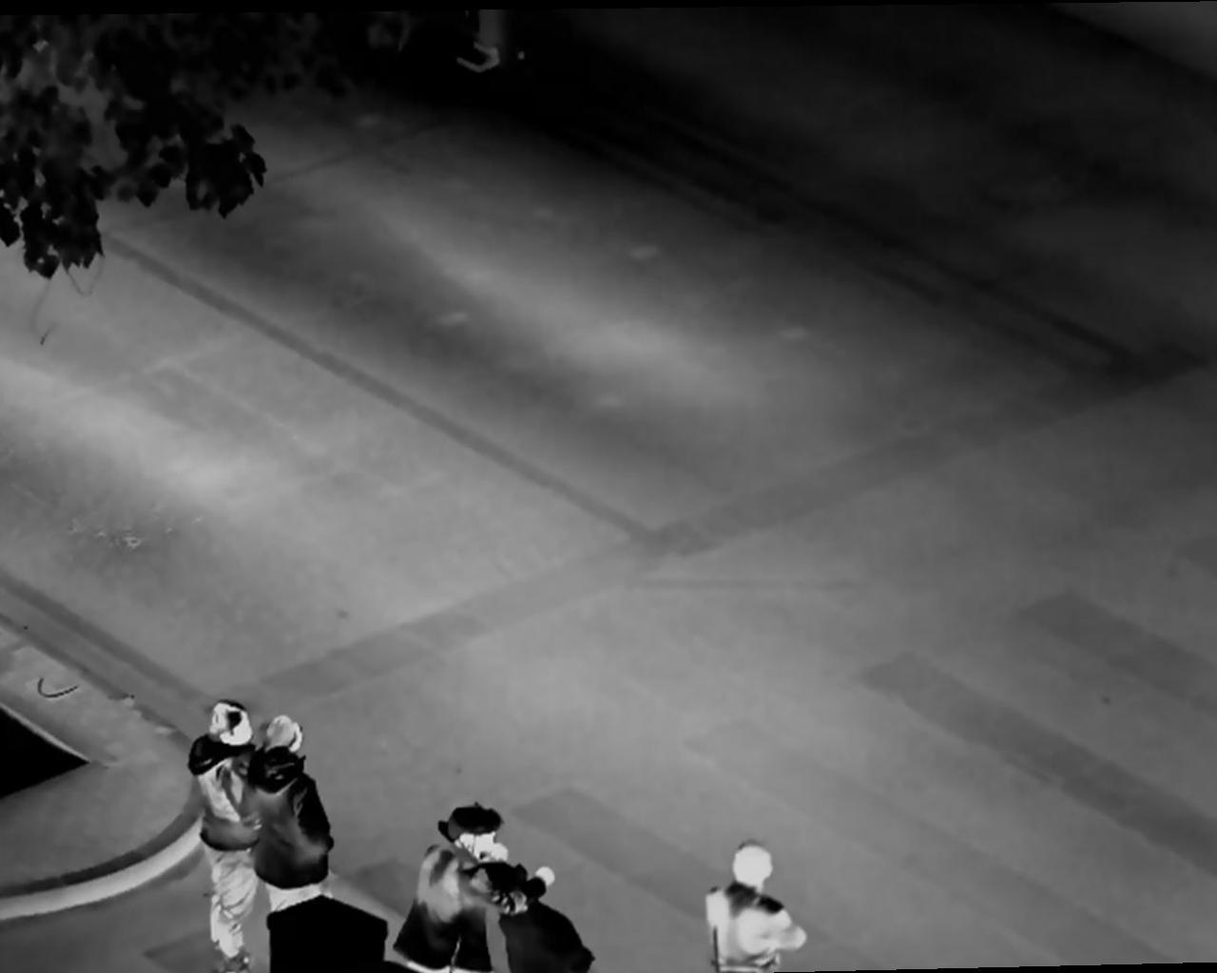person: (183, 698, 261, 967), (247, 718, 347, 909), (415, 804, 509, 973), (700, 837, 803, 973)
